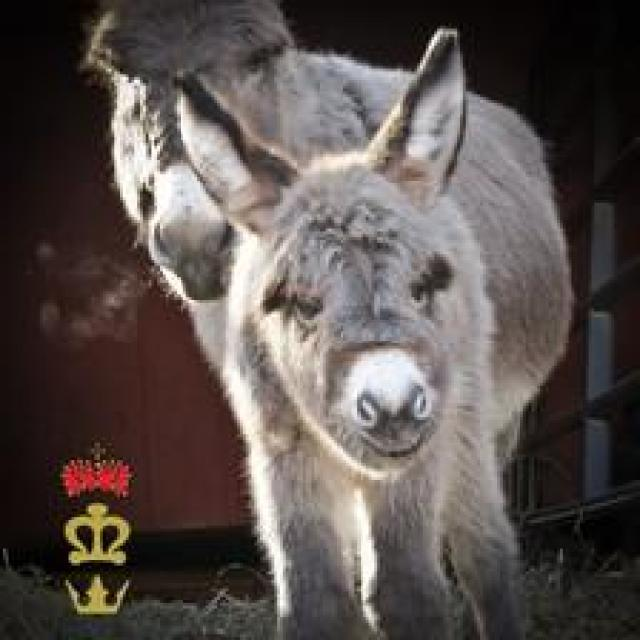Donkey: (77, 0, 574, 637)
